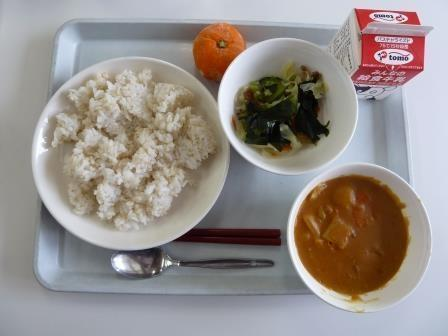Citrus: (183, 8, 253, 83)
Curry: (288, 171, 421, 302)
Milk: (334, 6, 435, 93)
Rice: (43, 76, 216, 224)
Salad: (233, 65, 331, 172)
